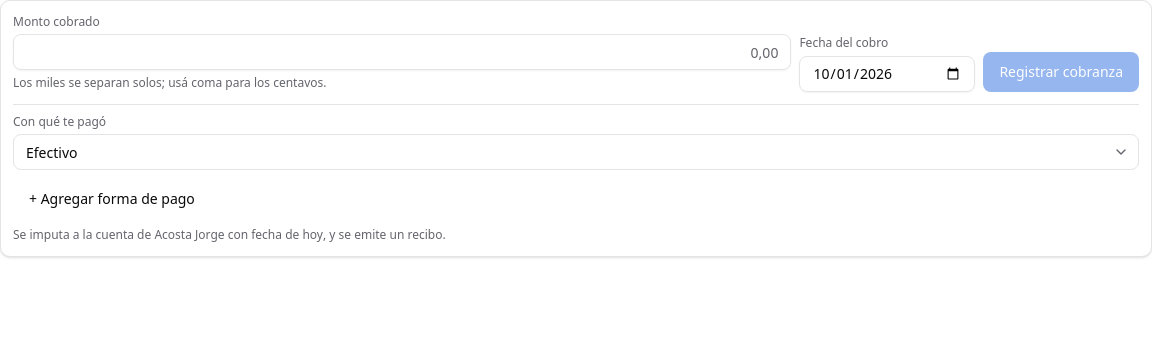
Test: FormularioImputacion — formas de pago › quitar deja una sola forma y vuelve a esconder los importes
In the field labelled "Monto cobrado": (402, 52) [13,34,791,70], type "1000"
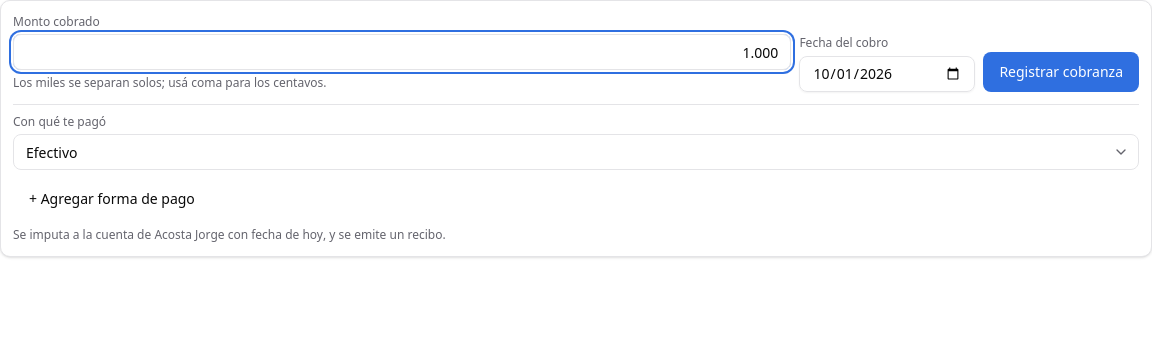
Click the button "+ Agregar forma de pago": click(112, 198) [13,178,211,218]
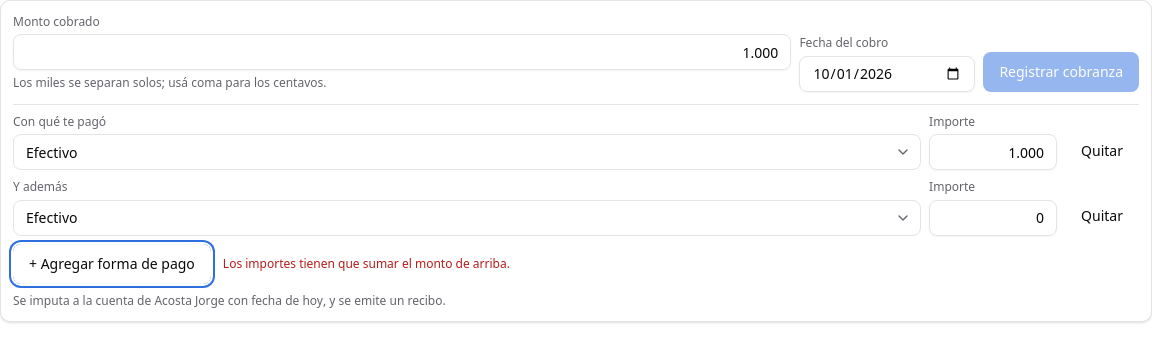
Click the 2nd button "Quitar": click(1102, 216) [1065,196,1139,236]
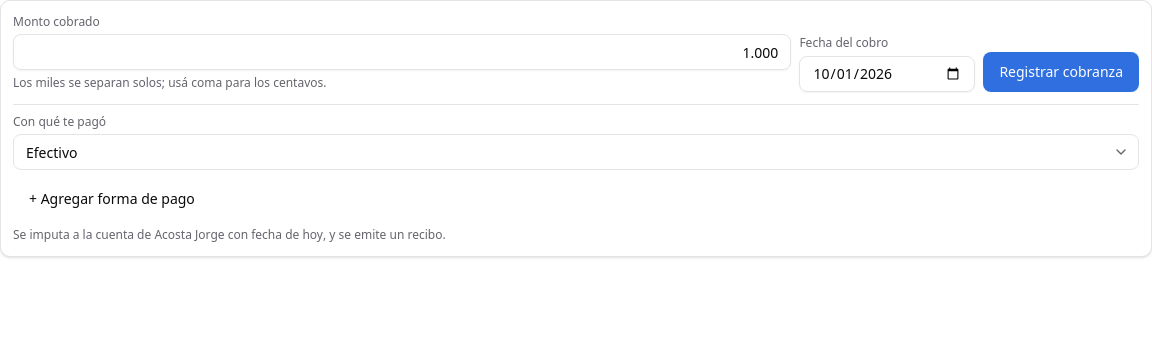
Now the label labelled "Importe" is gone
Now the button "Registrar cobranza" is enabled, box [983,52,1139,92]
